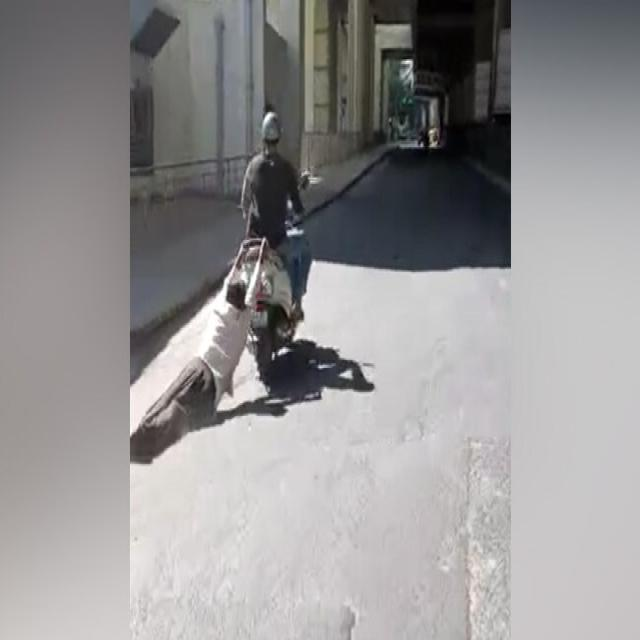motorcycle: (241, 112, 311, 373)
